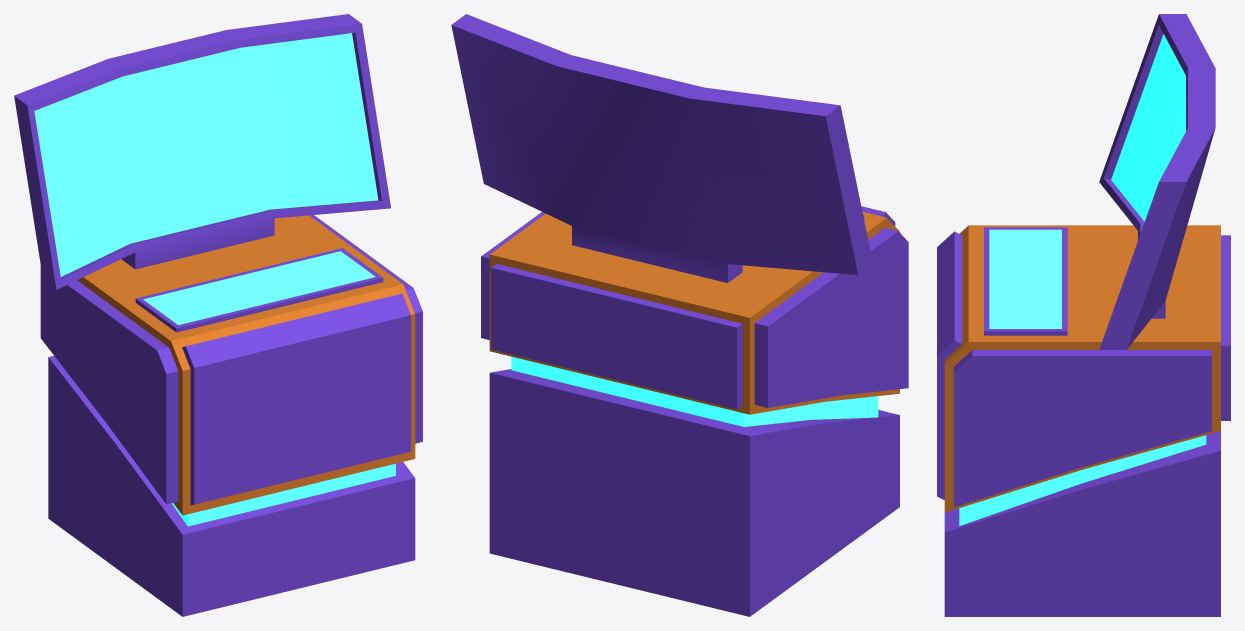
Rendered from AccessPanel.fbx.
3 renders of one model, left to right at view 1: azimuth 30°, elevation 25°; view 2: azimuth 150°, elevation 25°; view 3: azimuth 270°, elevation 25°, orthographic. The views are drawn at different scales.
Visible parts, largest first — view 1: AccessPanel; view 2: AccessPanel; view 3: AccessPanel.
Part boxes in pixels (x1,y1,x2,y2): AccessPanel: (14, 14, 422, 616); AccessPanel: (451, 14, 908, 616); AccessPanel: (937, 14, 1230, 616).
Size of the model in its own units: 150 by 191 by 111.
